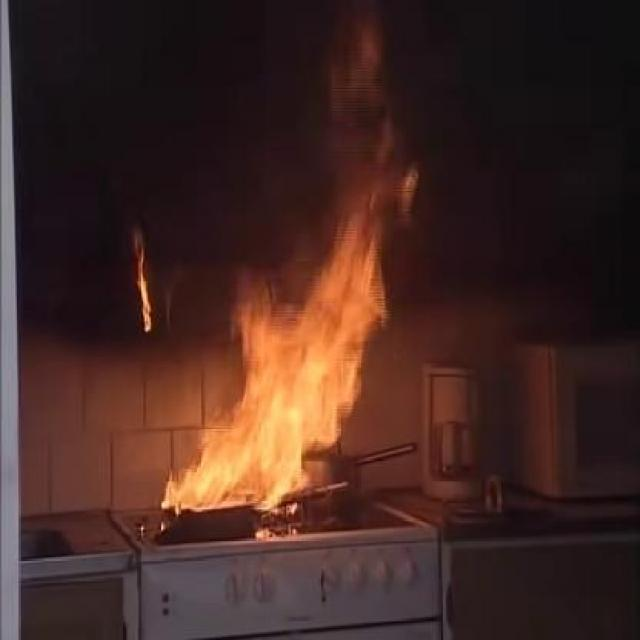fire: (198, 243, 347, 502)
smoke: (316, 36, 436, 227), (171, 129, 287, 220)
